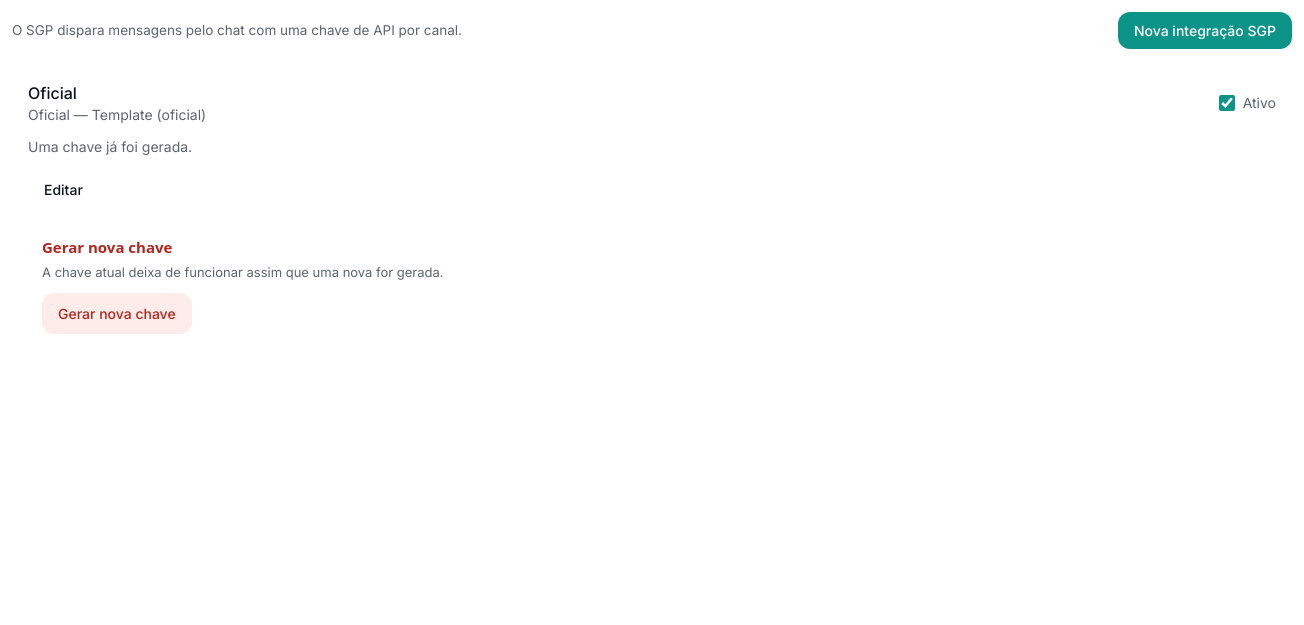
it: SgpChannelPage › clicking Editar reveals the edit fields prefilled with the card current values
Click the button "Editar": (63, 190) [28, 169, 99, 210]
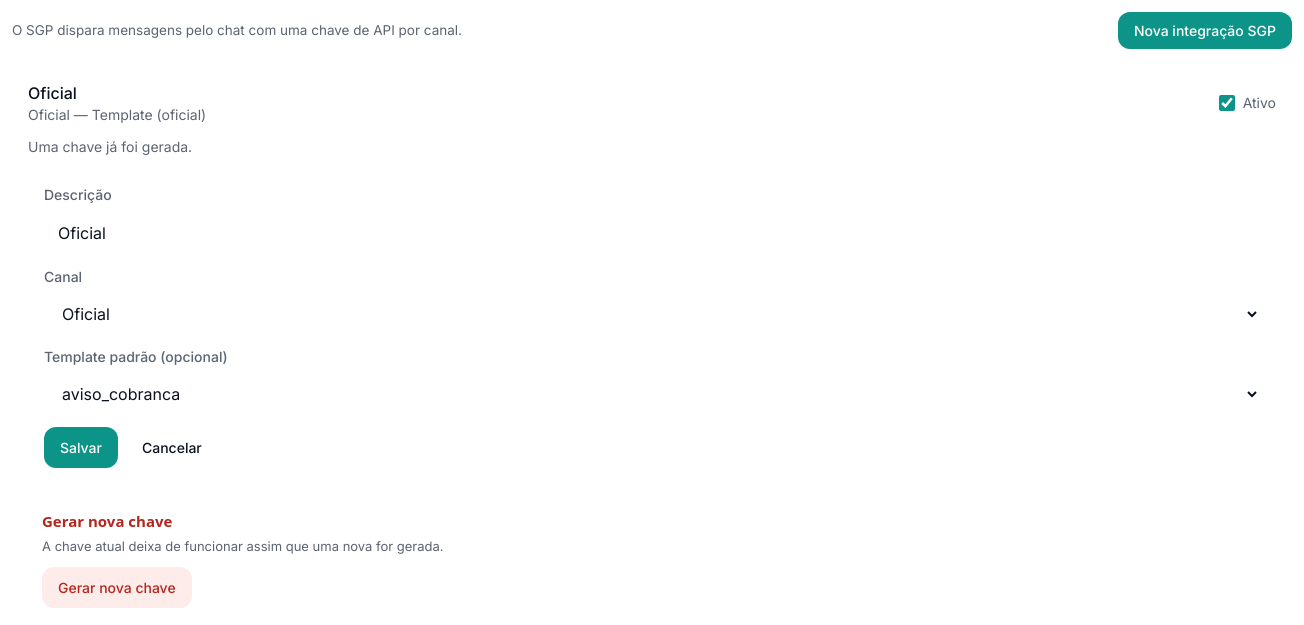
Check: the field labelled "Descrição" holds "Oficial", box [44, 211, 1260, 255]
Check: the dropdown labelled "Canal" shows "Oficial", box [44, 293, 1260, 335]
Check: the dropdown labelled "Template padrão (opcional)" shows "aviso_cobranca", box [44, 373, 1260, 415]
